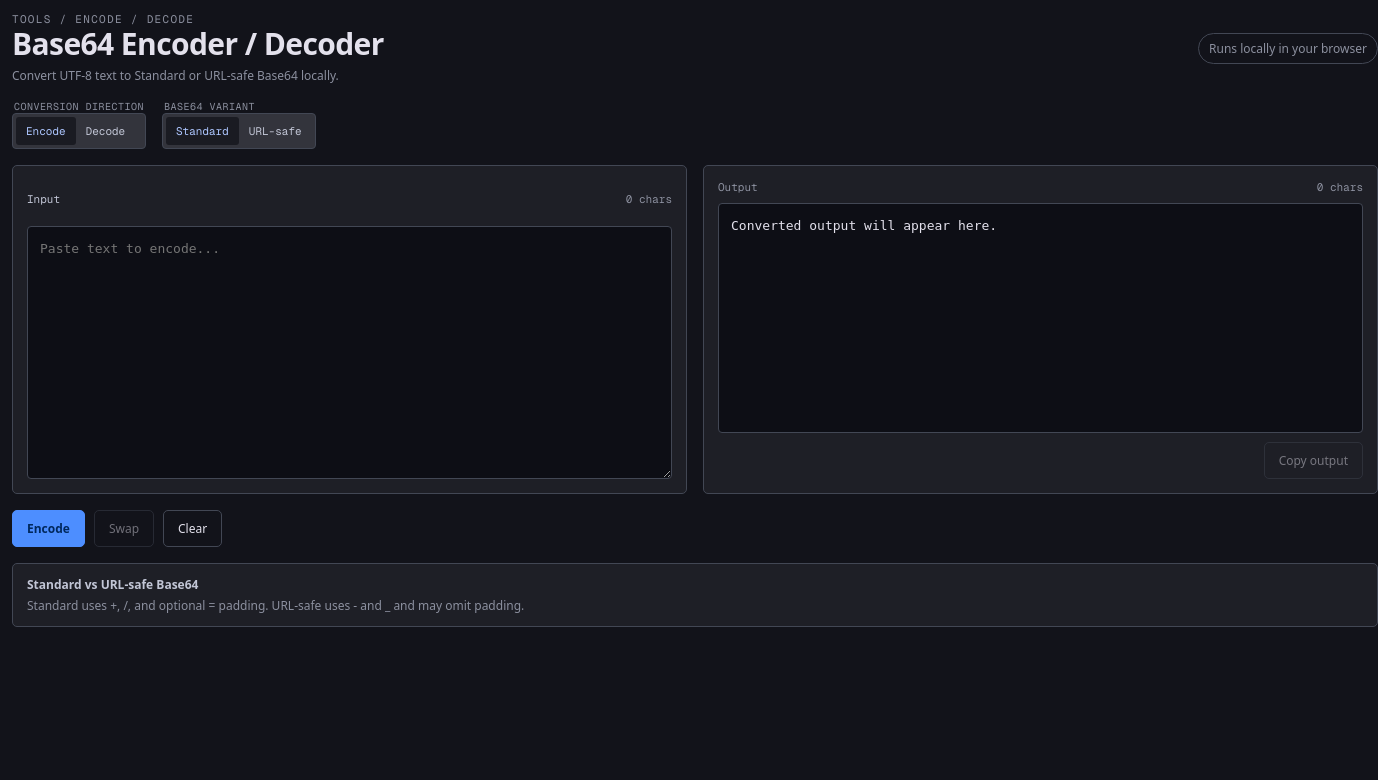
it: Base64 Encoder / Decoder - Level 3 advanced/risk-driven › shows an actionable error when clipboard access is unavailable (browser capability risk)
In the text box labelled "Input": [350, 352] box [27,226,672,479], type "Hello"
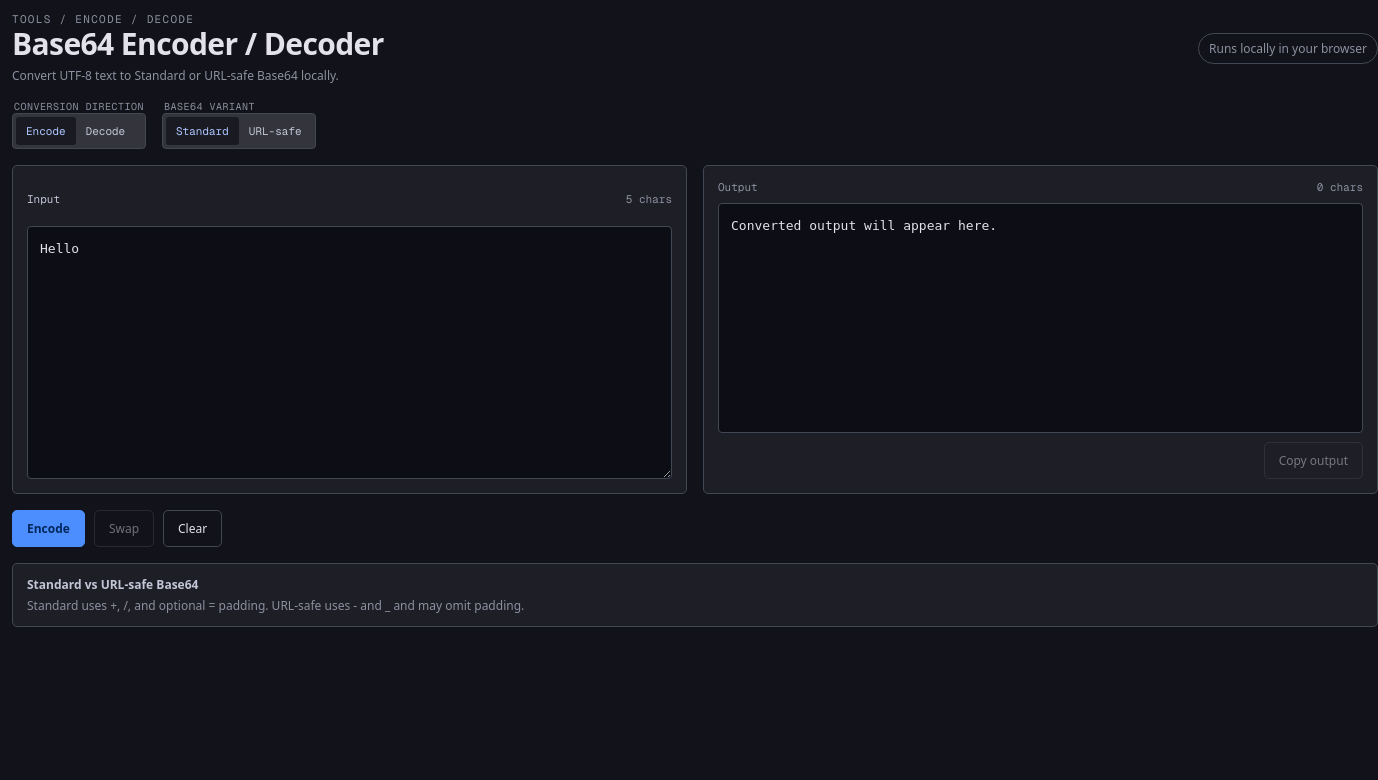
Click the button with aria-label "Encode Base64": [48, 528] box [12,510,85,547]
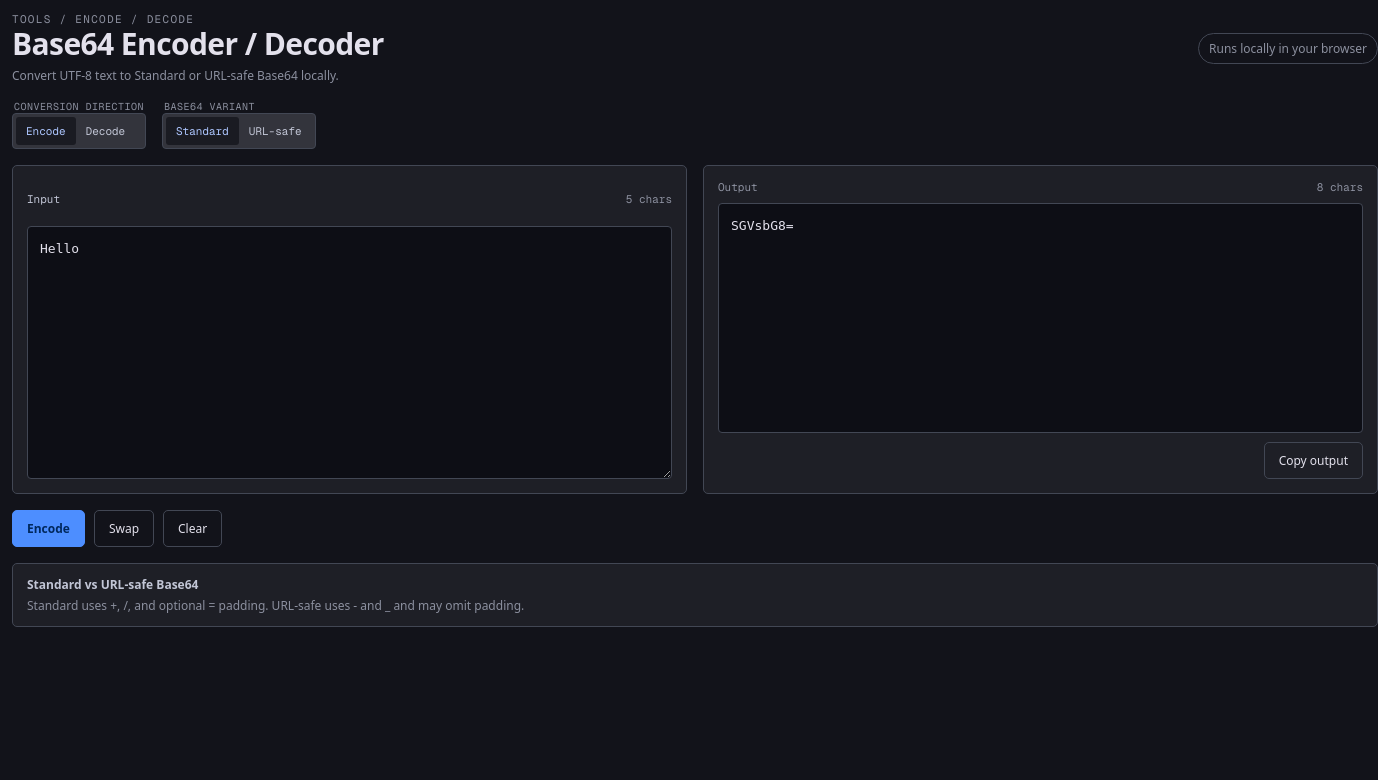
Click the button "Copy output": [1313, 460] box [1264,442,1363,479]
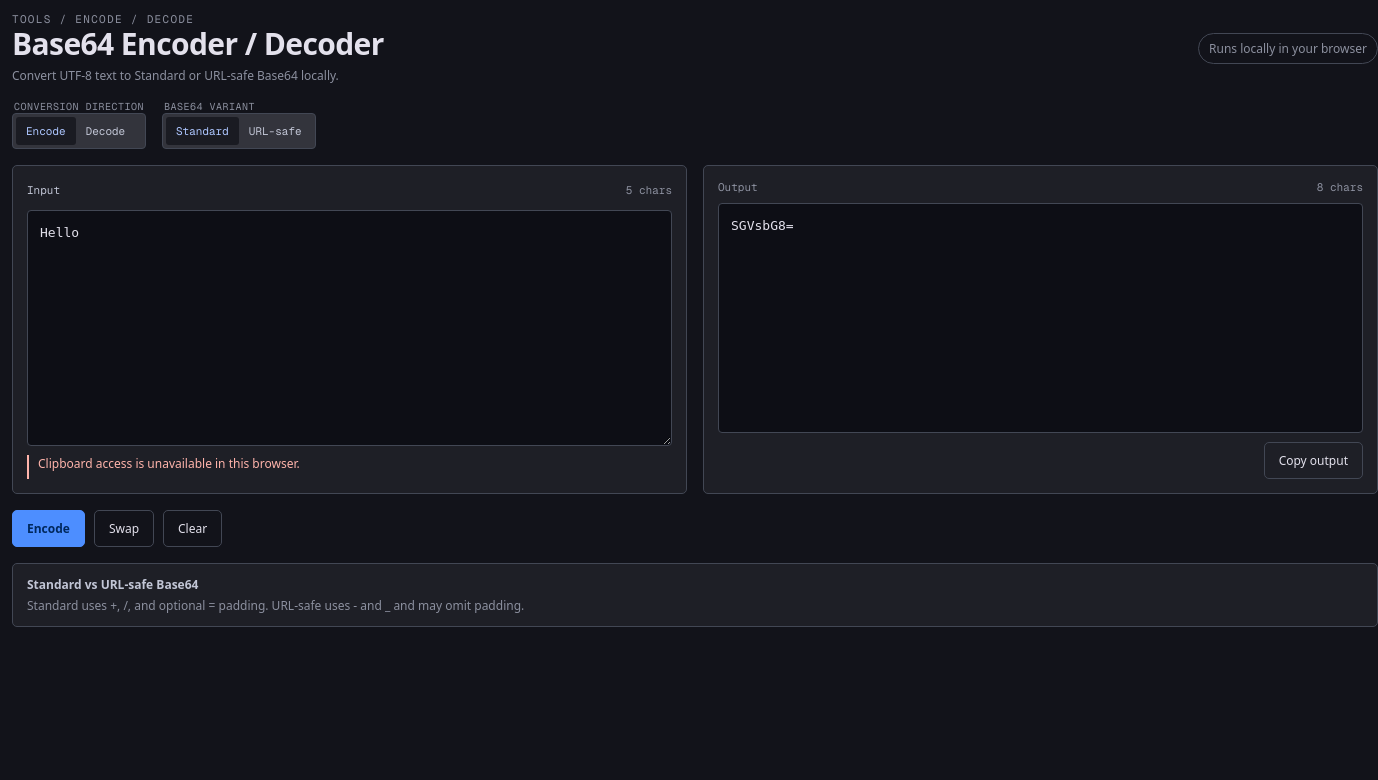
Now the element named "Base64 output editor" shows "SGVsbG8=", box [731,218,794,233]
Now the message reads "Clipboard access is unavailable in this browser.", box [38,455,300,472]
